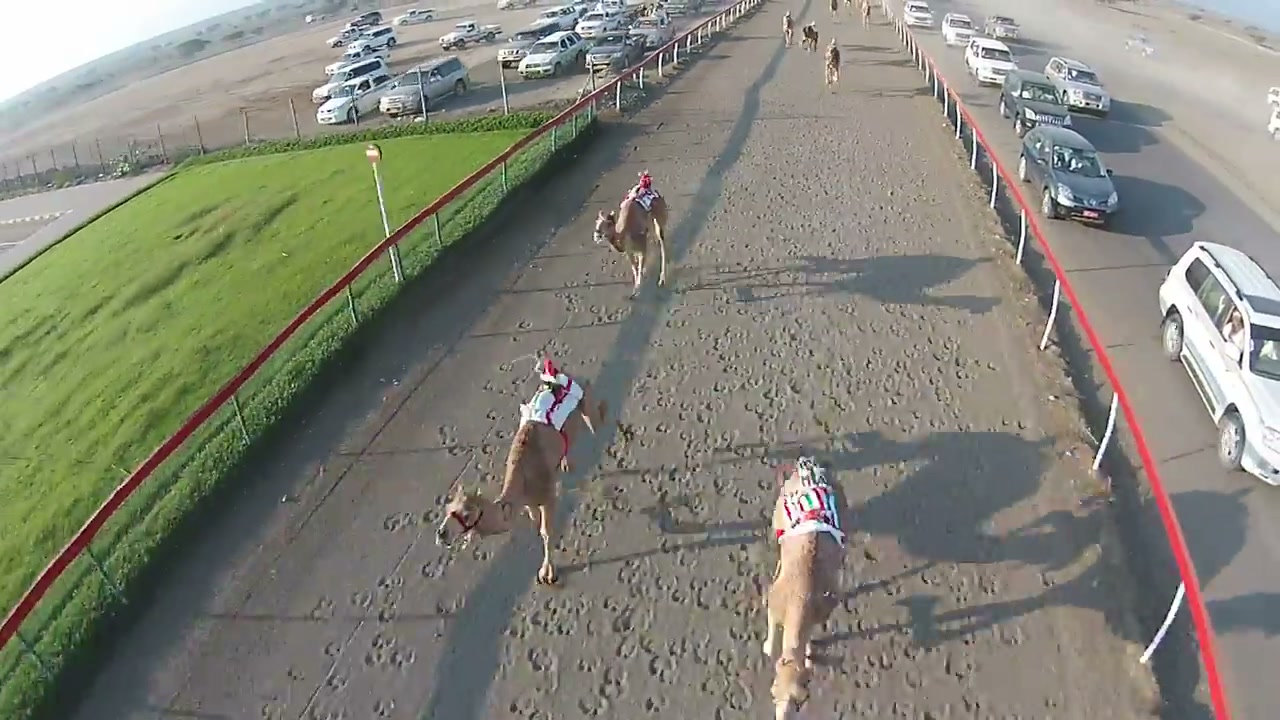animal_footprint: (280, 213, 579, 719), (491, 237, 773, 719), (784, 569, 1022, 717)
